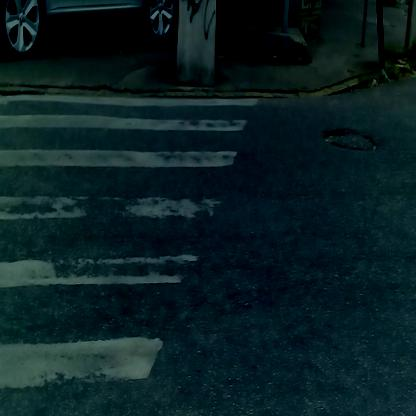crosswalk: (1, 95, 257, 388)
sidewalk: (5, 38, 378, 105)
